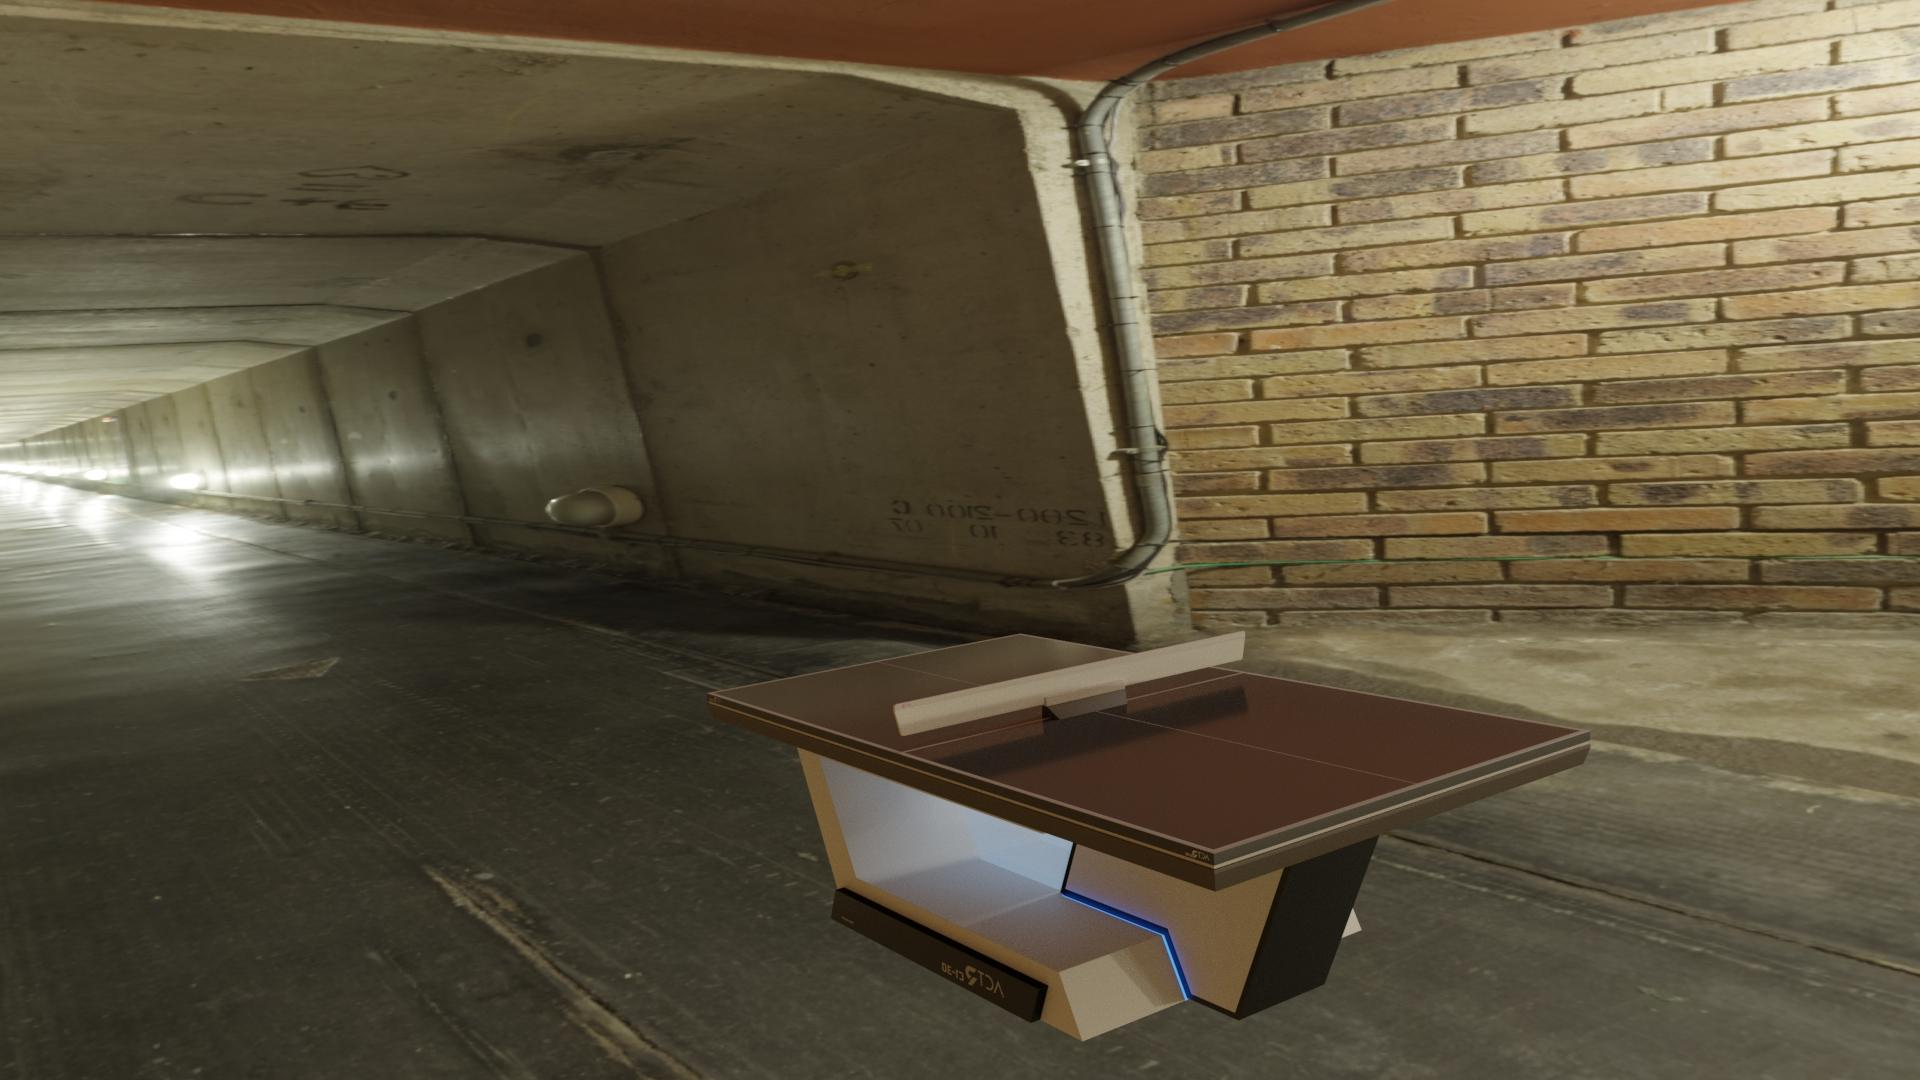table: (713, 634, 1580, 849)
